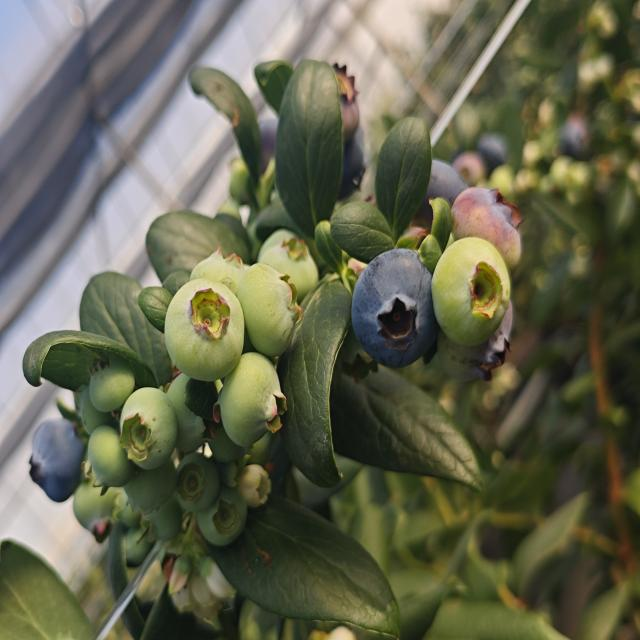ripe: (348, 246, 438, 371), (28, 390, 82, 500), (321, 120, 369, 208), (421, 143, 471, 210), (250, 110, 292, 176), (553, 117, 596, 164), (475, 129, 510, 180)
